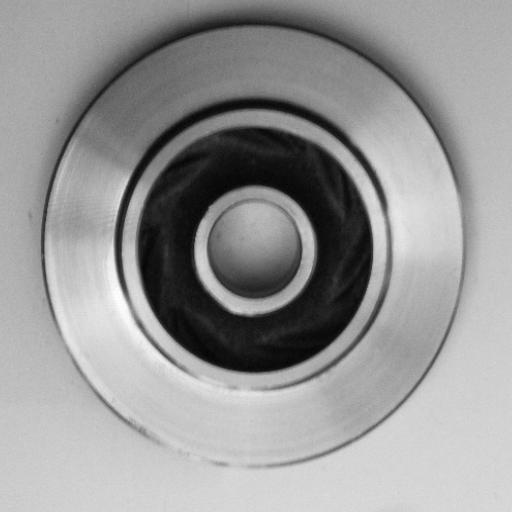scratch: (125, 411, 273, 485), (178, 362, 275, 413)
unpolished_casting: (43, 21, 466, 474)
